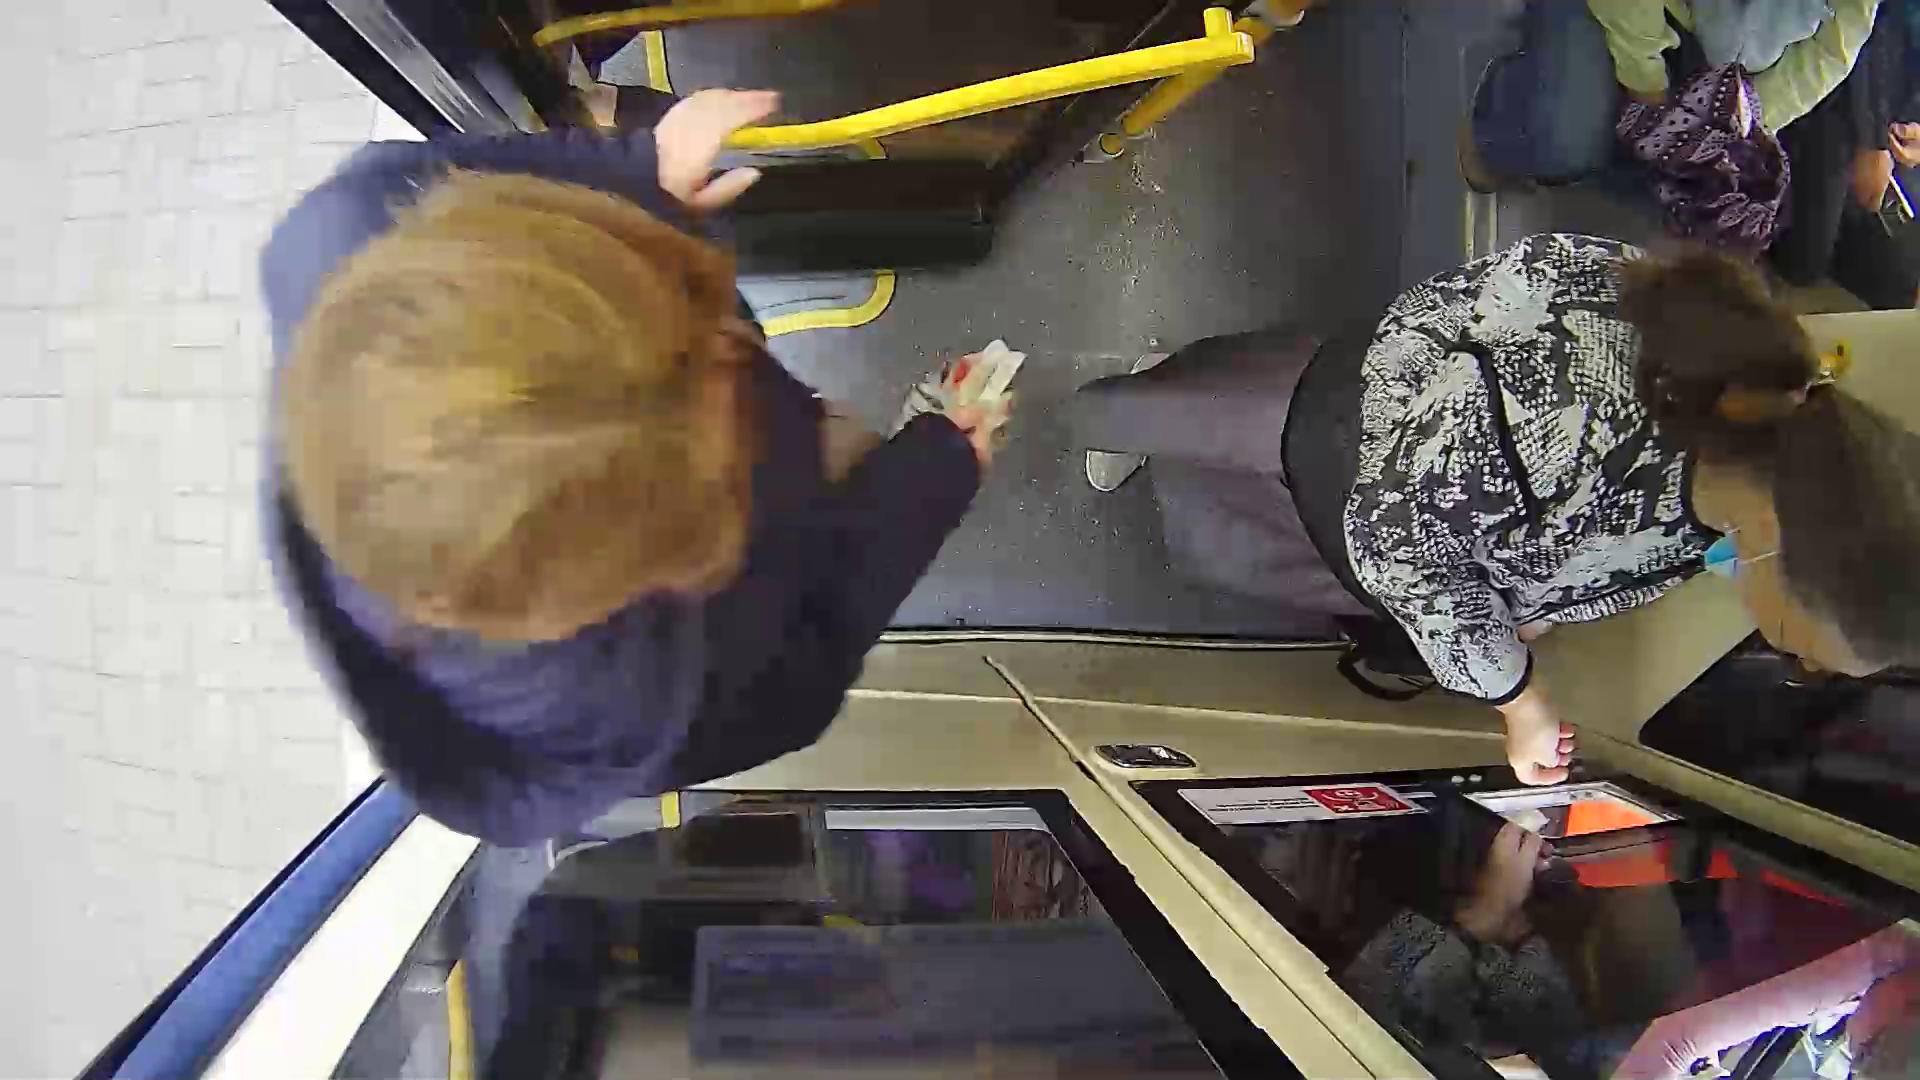person: (243, 129, 1084, 823), (1228, 220, 1893, 773)
